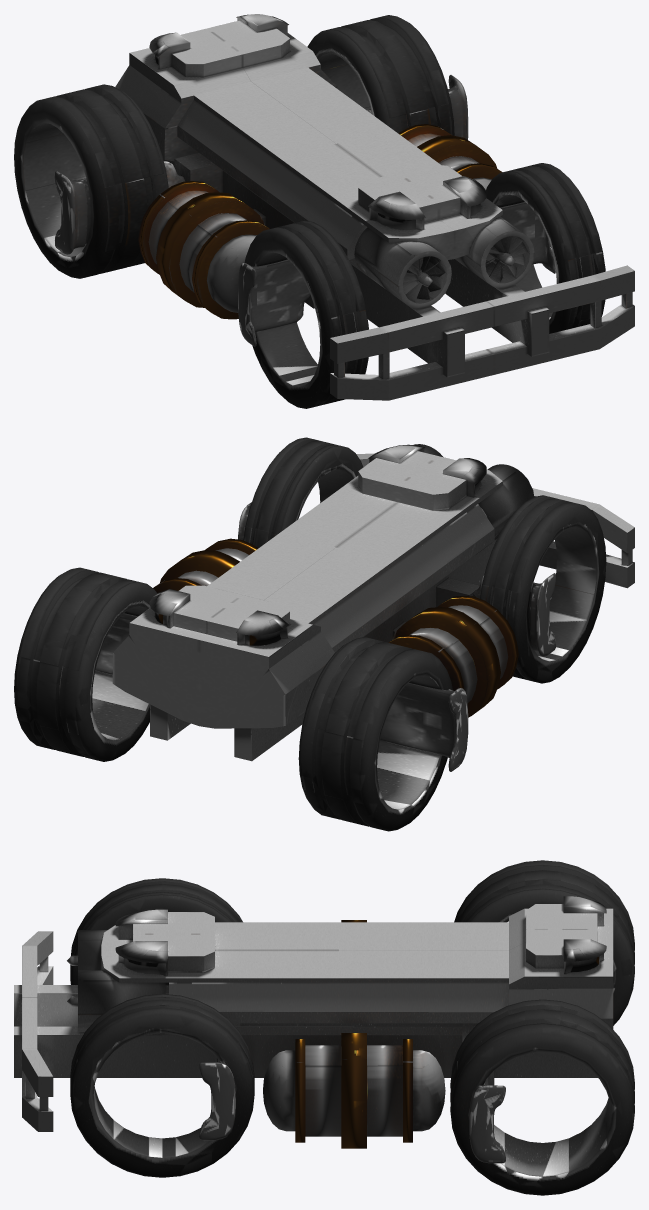
The model's file is scout.dae.
The picture shows the model from 3 angles, top to bottom: view 1: azimuth 30°, elevation 25°; view 2: azimuth 150°, elevation 25°; view 3: azimuth 270°, elevation 25°; orthographic projection.
Parts seen in each view (by area): view 1: Left_Front_Axle_001; view 2: Left_Front_Axle_001; view 3: Left_Front_Axle_001.
Part boxes in pixels (x1,y1,x2,y2): Left_Front_Axle_001: (14, 14, 634, 408); Left_Front_Axle_001: (14, 437, 634, 831); Left_Front_Axle_001: (14, 860, 634, 1195).
Bounding box in the file's own units: 1.55 × 2.09 × 0.7003.
1 material, 1 textured.
